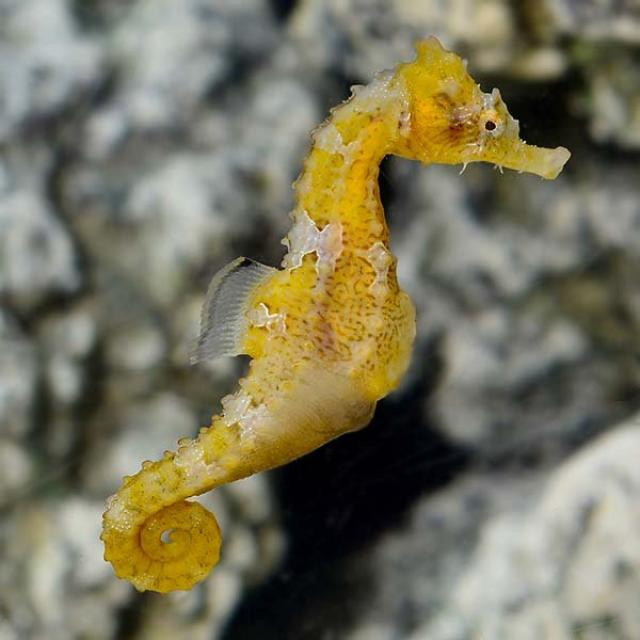seahorse: (100, 38, 569, 593)
